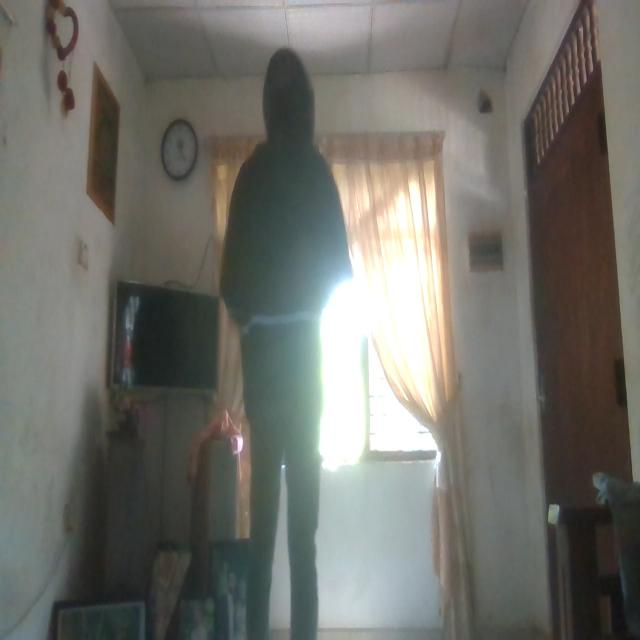Helmet_Wearer: (253, 39, 319, 156)
Jacket_Wearer: (221, 144, 357, 476)
Person: (216, 44, 356, 640)
